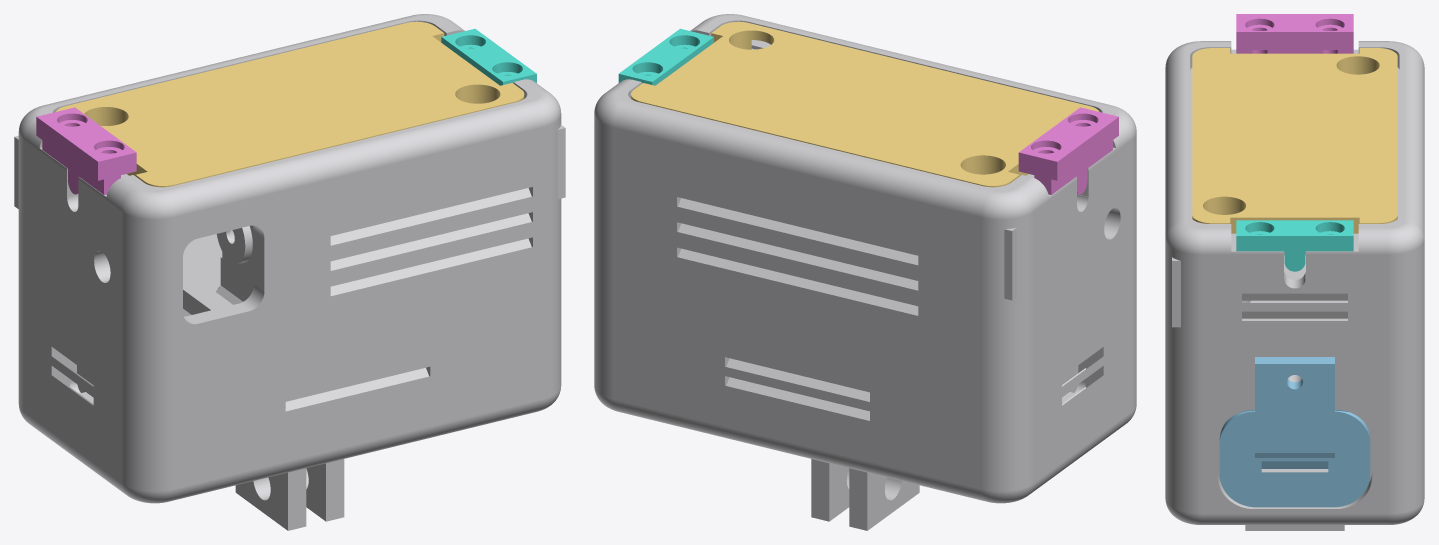
File: sender_mid.glb
3 renders of one model, left to right at view 1: azimuth 30°, elevation 25°; view 2: azimuth 150°, elevation 25°; view 3: azimuth 270°, elevation 25°, orthographic. The views are drawn at different scales.
Parts seen in each view (by area): view 1: =>[0:1:1:3], =>[0:1:1:5], =>[0:1:1:10], =>[0:1:1:11]; view 2: =>[0:1:1:3], =>[0:1:1:5], =>[0:1:1:10], =>[0:1:1:11]; view 3: =>[0:1:1:3], =>[0:1:1:5], =>[0:1:1:4], =>[0:1:1:10], =>[0:1:1:11].
Part boxes in pixels (x1,y1,x2,y2): =>[0:1:1:3]: [14, 14, 565, 530]; =>[0:1:1:5]: [56, 21, 524, 187]; =>[0:1:1:10]: [36, 107, 136, 194]; =>[0:1:1:11]: [441, 28, 536, 85]; =>[0:1:1:3]: [594, 14, 1136, 530]; =>[0:1:1:5]: [631, 21, 1099, 187]; =>[0:1:1:10]: [1018, 107, 1118, 194]; =>[0:1:1:11]: [618, 28, 713, 85]; =>[0:1:1:3]: [1165, 41, 1424, 530]; =>[0:1:1:5]: [1192, 48, 1397, 233]; =>[0:1:1:4]: [1219, 357, 1370, 507]; =>[0:1:1:10]: [1236, 14, 1353, 53]; =>[0:1:1:11]: [1236, 220, 1353, 271].
Bounding box in the file's own units: 0.0754 × 0.0665 × 0.039.
